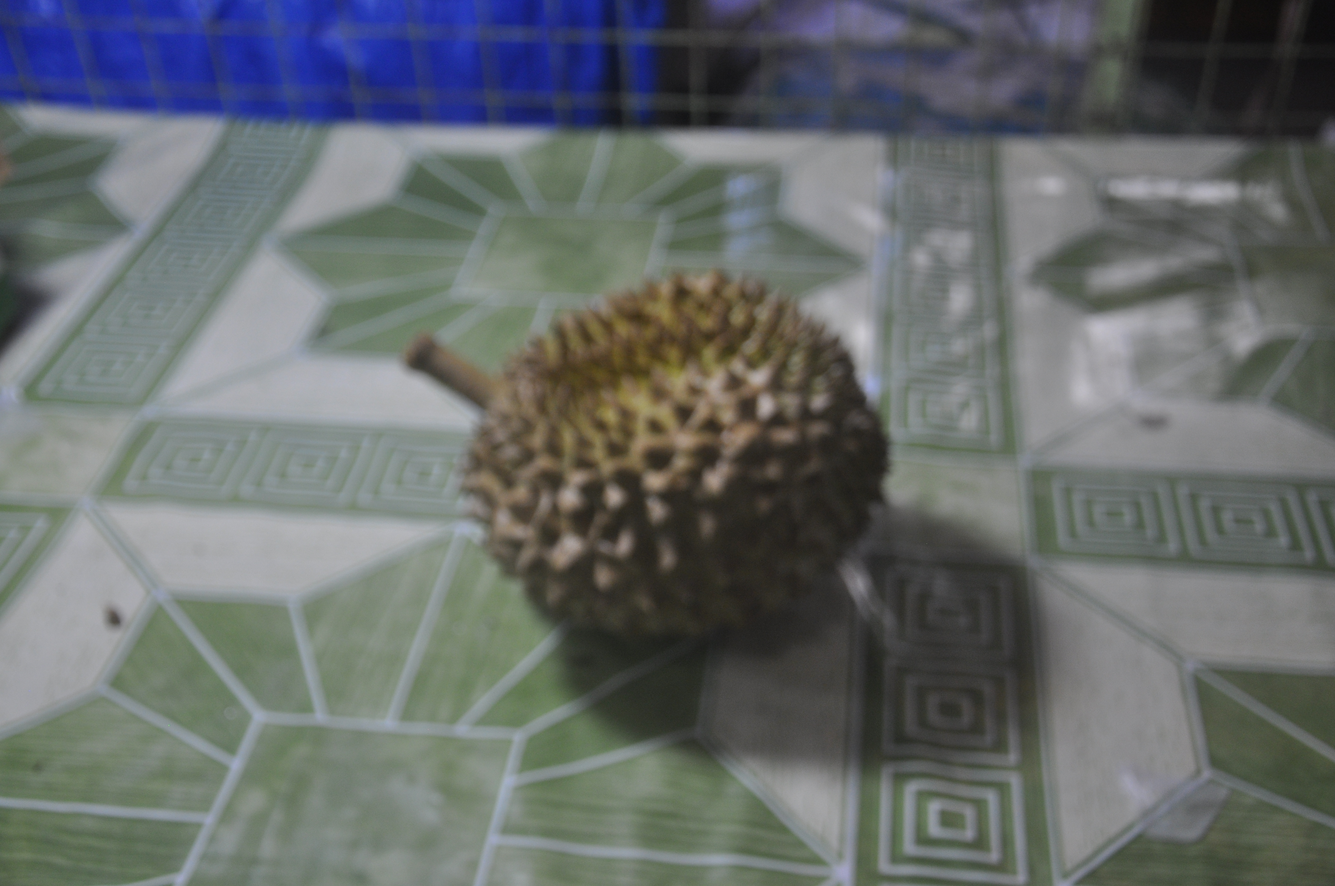mature: (404, 271, 888, 636)
